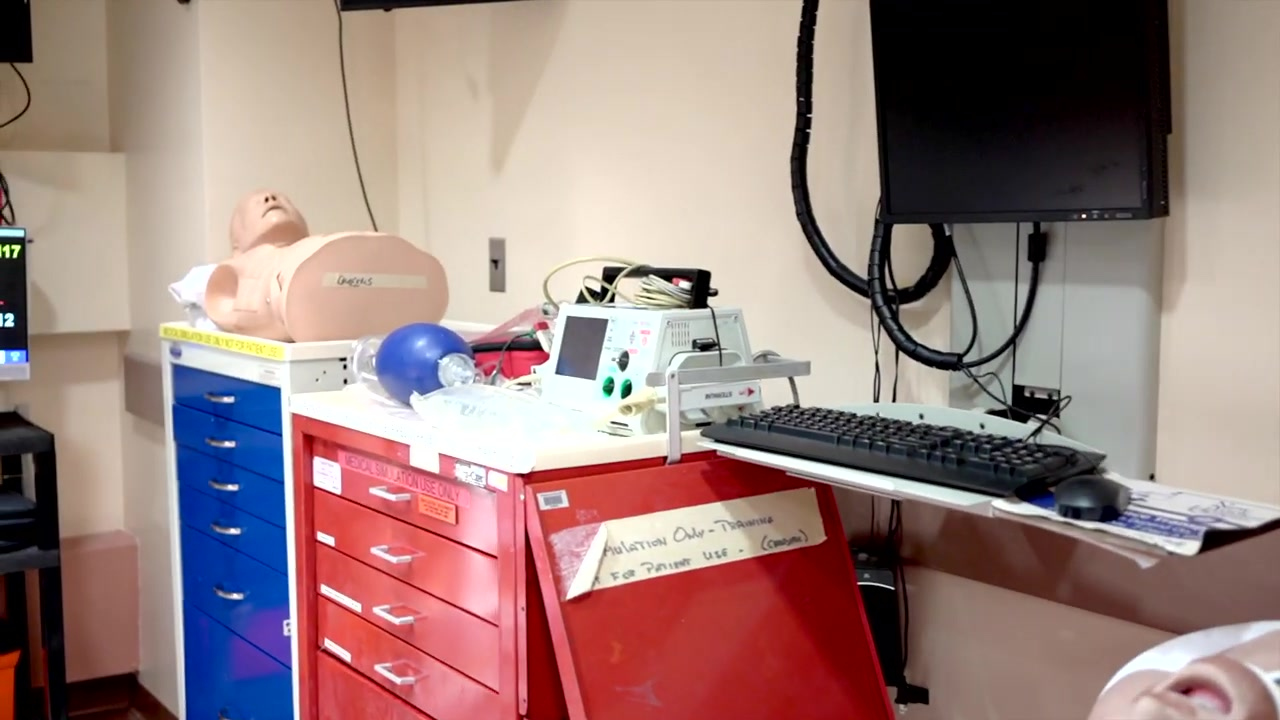computer: (868, 1, 1173, 224)
handle: (372, 661, 418, 686), (369, 542, 414, 565), (371, 604, 416, 626), (367, 483, 412, 503), (212, 583, 244, 602), (209, 519, 242, 535), (209, 478, 239, 493), (204, 391, 236, 405), (206, 436, 236, 450)
keyboard: (698, 403, 1108, 501)
light_switch: (485, 232, 510, 296)
medical_drawer: (288, 392, 813, 720), (159, 319, 536, 720)
mouse: (1052, 475, 1132, 522)
